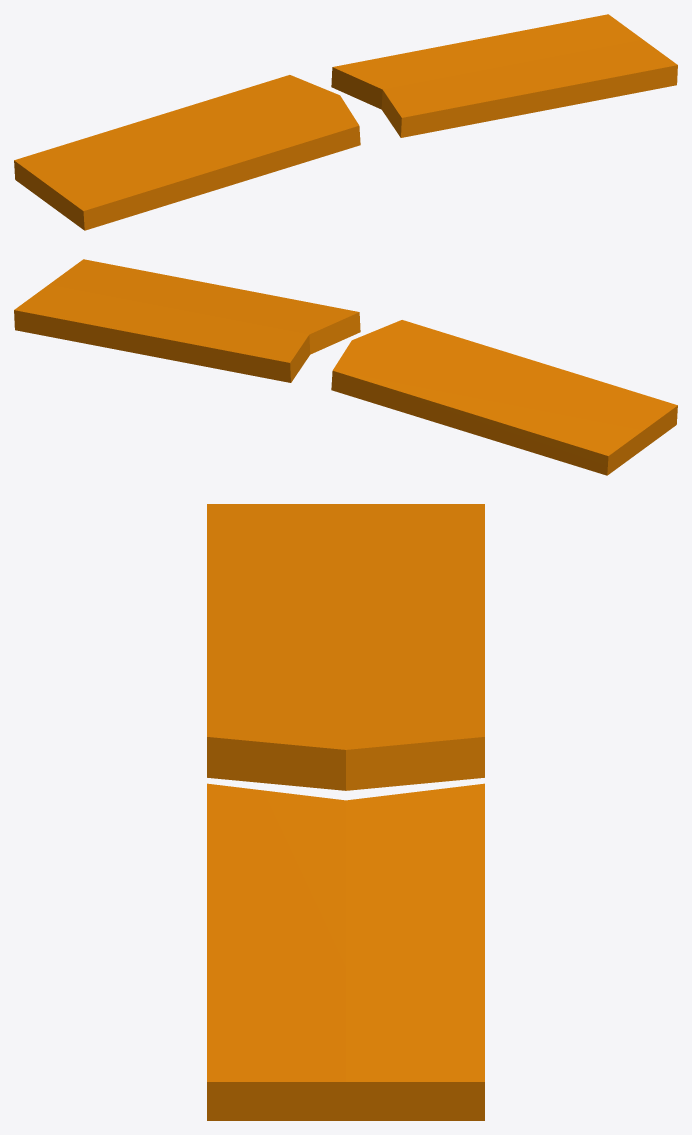
Rendered from Broken_plank_8.fbx.
3 renders of one model, top to bottom at view 1: azimuth 30°, elevation 25°; view 2: azimuth 150°, elevation 25°; view 3: azimuth 270°, elevation 25°, orthographic. The views are drawn at different scales.
Visible parts, largest first — view 1: Cube.056, Cube.055; view 2: Cube.056, Cube.055; view 3: Cube.055, Cube.056.
Part boxes in pixels (x1=…): Cube.056: x1=14, y1=75, x2=360, y2=230; Cube.055: x1=331, y1=14, x2=677, y2=137; Cube.056: x1=331, y1=320, x2=677, y2=475; Cube.055: x1=14, y1=259, x2=360, y2=382; Cube.055: x1=207, y1=783, x2=484, y2=1120; Cube.056: x1=207, y1=504, x2=484, y2=790.
Size of the model in its own units: 64.51 by 4.06 by 13.07.
